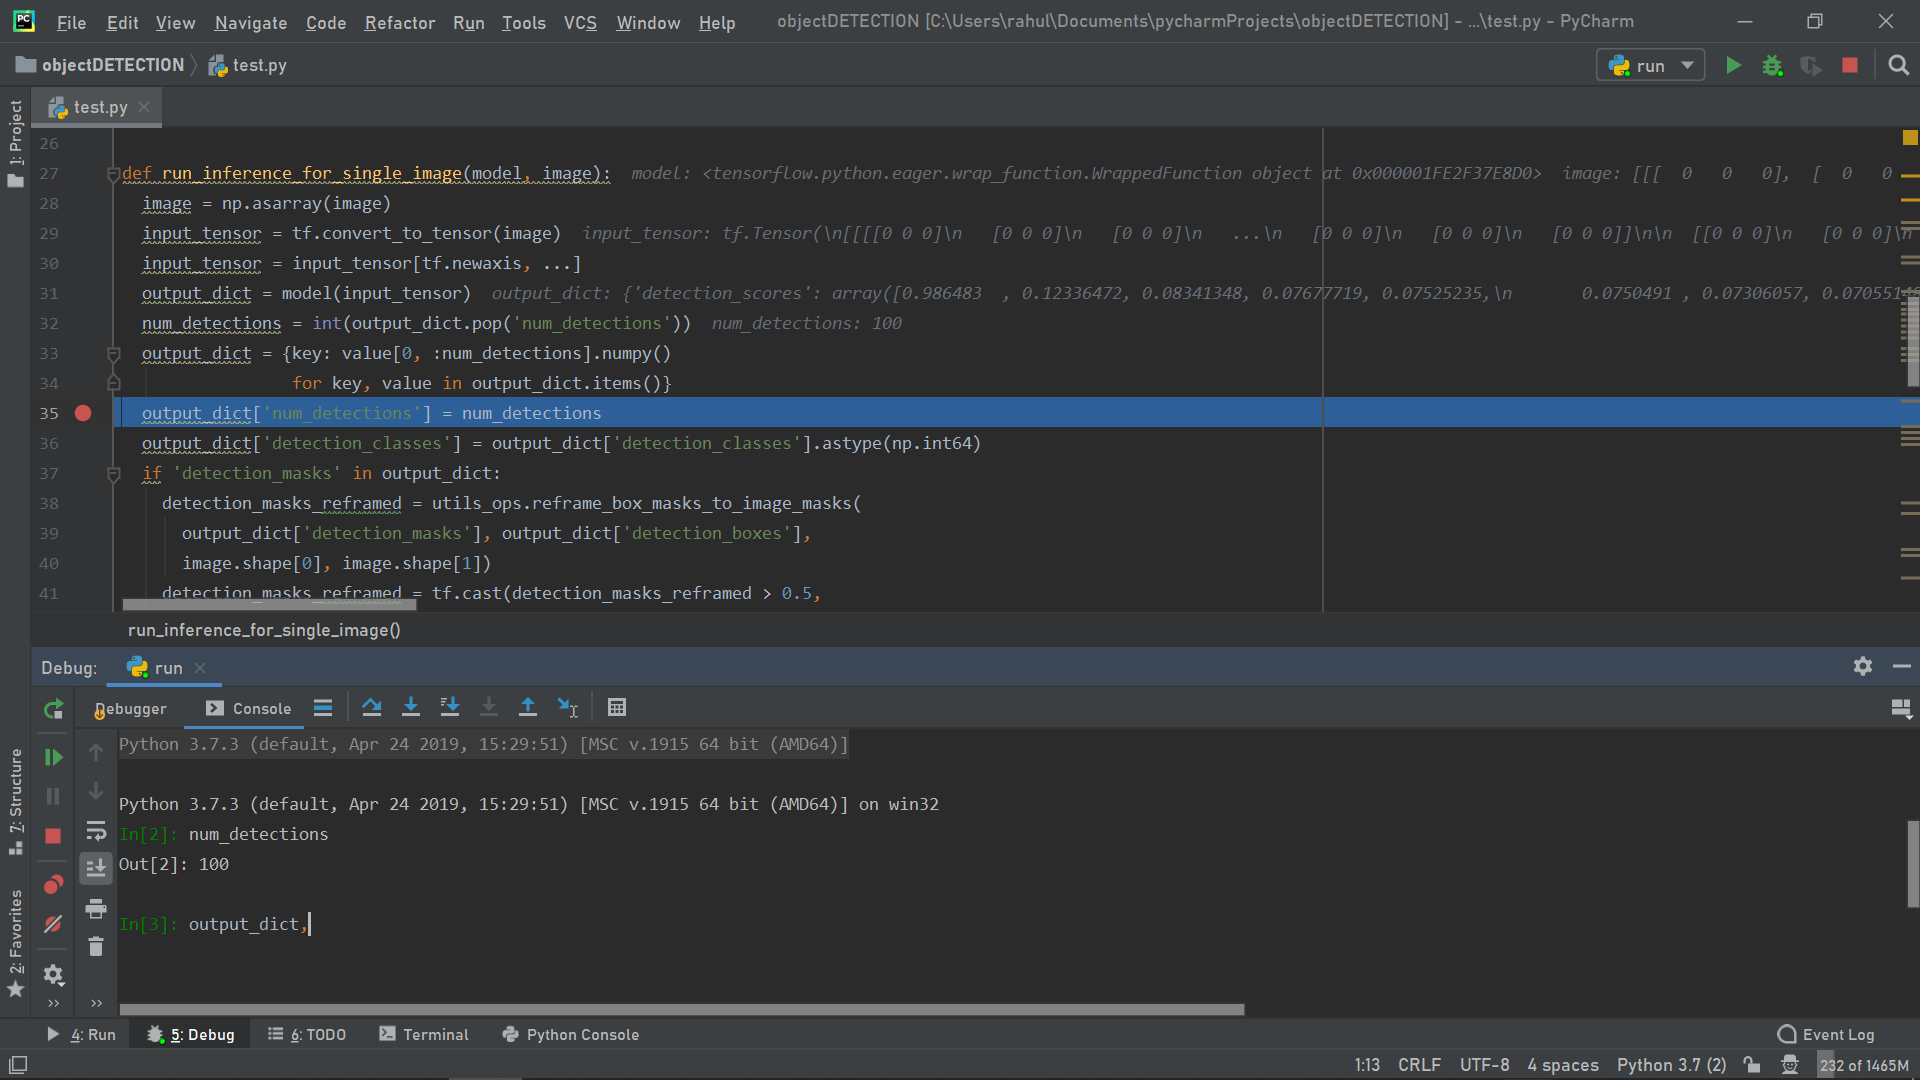ball: (516, 47, 947, 334), (1424, 585, 1778, 836)
